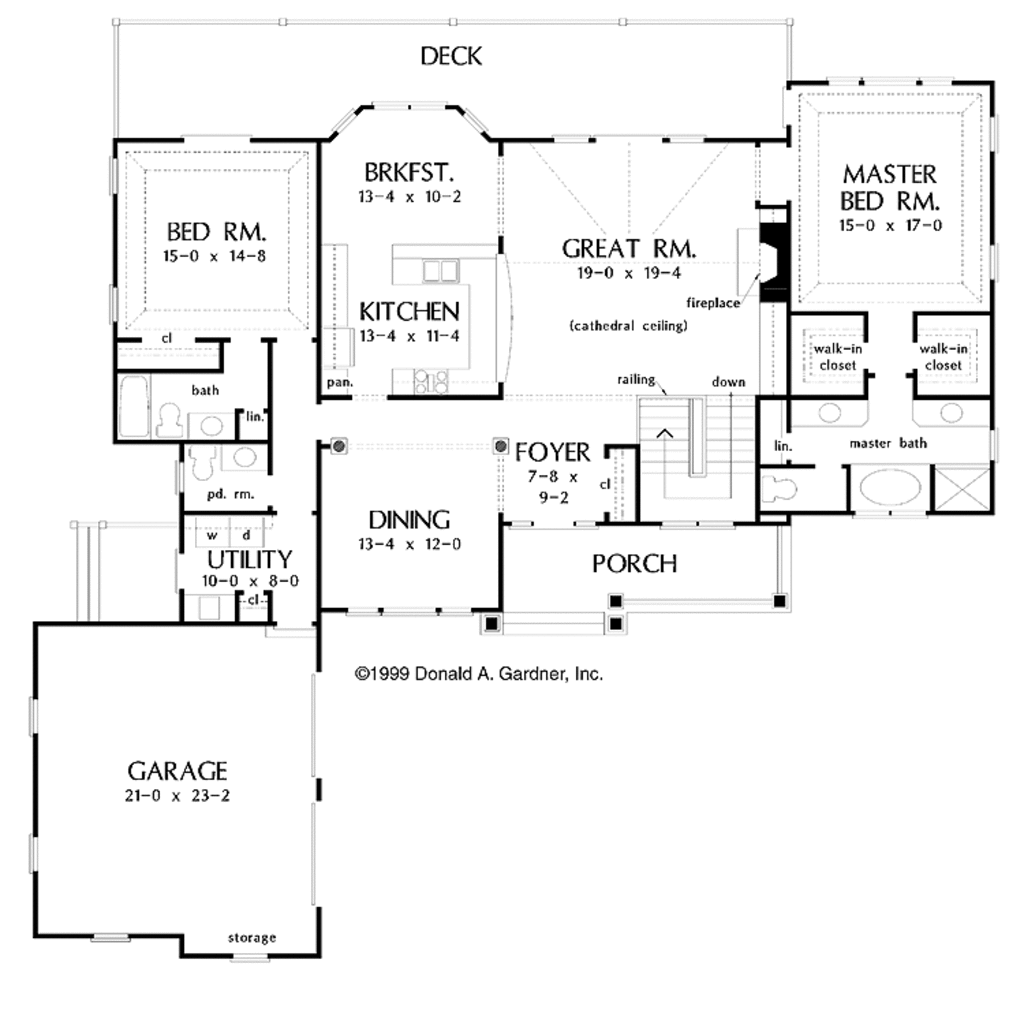large_sink: (145, 394, 187, 444), (762, 464, 801, 511), (186, 442, 223, 488)
small_sink: (796, 400, 859, 431), (928, 392, 973, 425), (193, 414, 237, 445), (228, 444, 271, 472)
stairs: (626, 378, 759, 520), (69, 523, 175, 622)
tub: (111, 377, 157, 444)
twin_sink: (420, 260, 462, 292)
window: (328, 89, 493, 136), (826, 67, 957, 95), (175, 127, 264, 155), (342, 599, 481, 616), (71, 924, 150, 947), (20, 700, 50, 744), (229, 938, 268, 969), (981, 235, 1000, 286), (26, 835, 48, 878)
